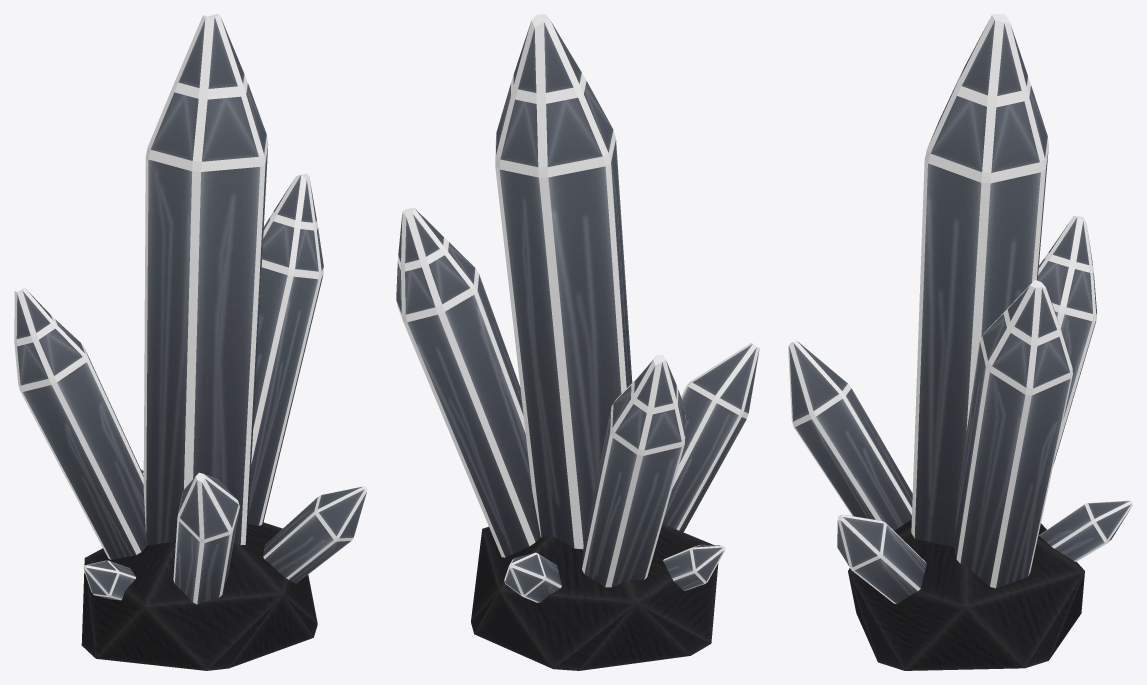
File: space_crystal.glb
3 views of the same model, side by side, from view 1: azimuth 30°, elevation 25°; view 2: azimuth 150°, elevation 25°; view 3: azimuth 270°, elevation 25° (orthographic). The views are drawn at different scales.
Parts seen in each view (by area): view 1: Energy_Crystal; view 2: Energy_Crystal; view 3: Energy_Crystal.
Part boxes in pixels (box(x1,y1,x2,y2)): Energy_Crystal: box(14, 14, 367, 670); Energy_Crystal: box(396, 14, 759, 670); Energy_Crystal: box(788, 14, 1132, 670).
Bounding box in the file's own units: 2 × 3.9 × 1.95.
1 material, 1 textured.
